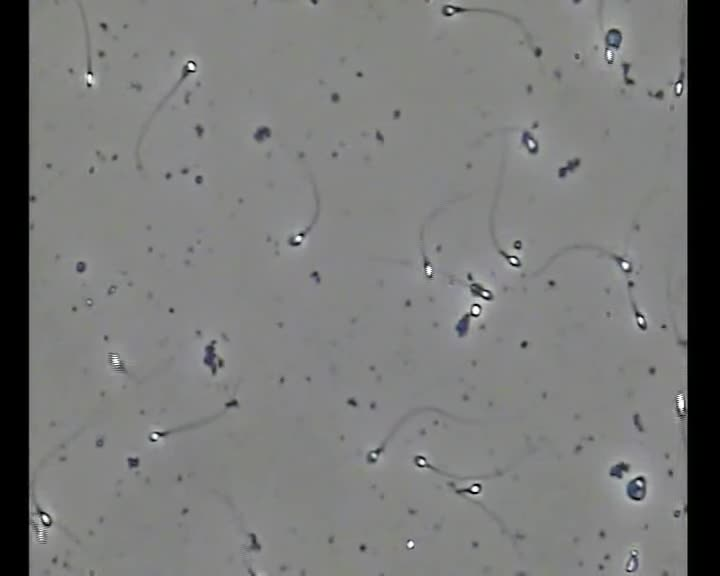spermhead: (626, 475, 647, 501), (470, 282, 494, 300), (521, 130, 538, 154), (606, 24, 623, 48), (106, 345, 125, 365), (36, 507, 53, 528), (441, 3, 466, 17), (673, 393, 686, 419), (147, 427, 166, 444), (183, 58, 198, 76), (616, 257, 632, 273), (504, 252, 521, 267), (635, 311, 648, 330), (465, 481, 482, 495), (424, 259, 436, 278), (366, 447, 381, 462), (289, 232, 304, 246), (674, 76, 684, 97), (84, 70, 96, 86), (414, 455, 428, 468), (470, 302, 481, 317)
